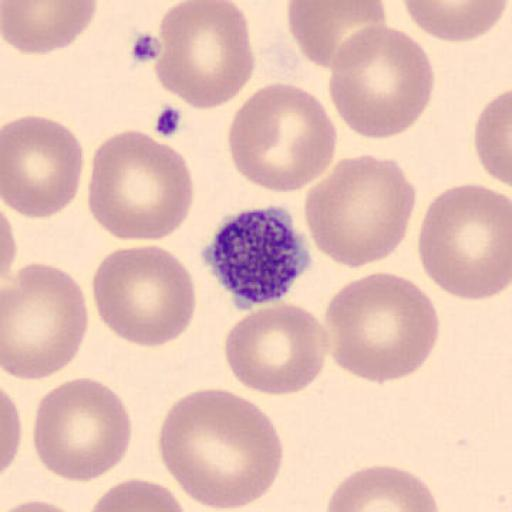Platelet: (200, 205, 314, 310)
RBC: (157, 386, 285, 511), (302, 152, 416, 270), (322, 272, 442, 384), (226, 81, 337, 194), (328, 24, 436, 140), (87, 128, 195, 243), (416, 181, 512, 302), (152, 0, 255, 111), (90, 243, 197, 349), (32, 375, 133, 484), (2, 260, 90, 382), (223, 301, 332, 397), (2, 114, 85, 220), (287, 1, 389, 70), (324, 464, 440, 512), (2, 0, 98, 56), (401, 0, 509, 44), (473, 86, 512, 191), (87, 476, 188, 512), (1, 386, 22, 477), (1, 207, 19, 282), (0, 498, 88, 512)
